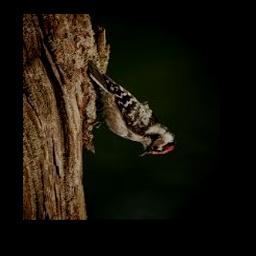Woodpecker: (89, 62, 177, 158)
